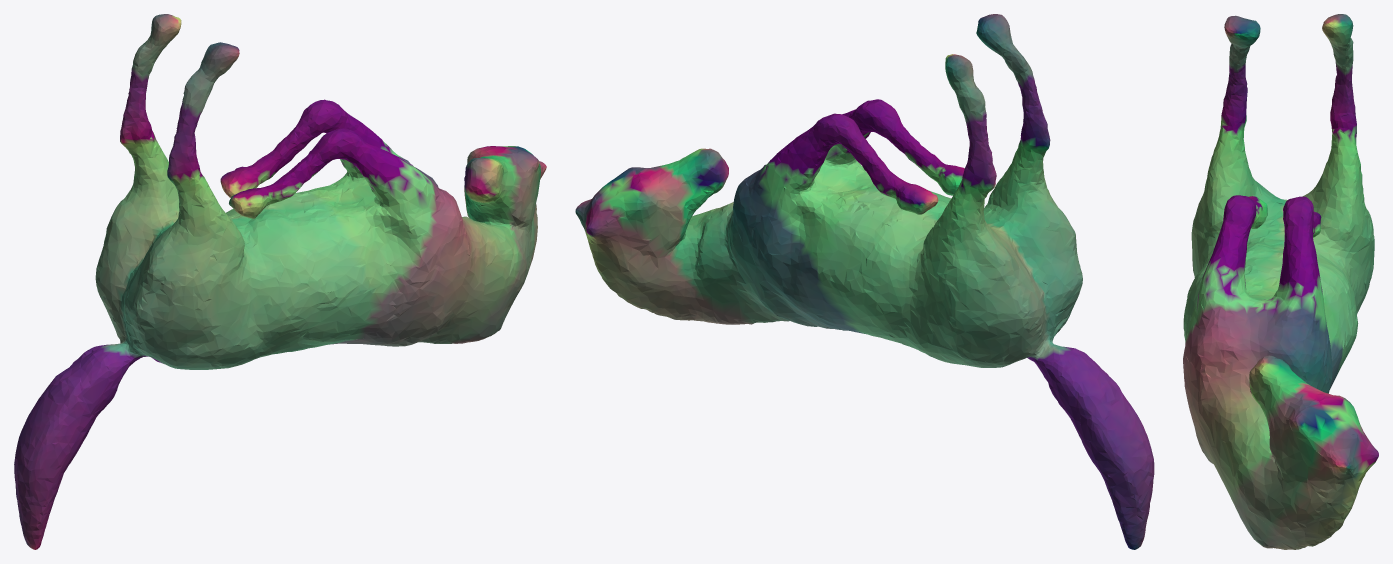
Rendered from horse-4.off.obj.
The picture shows the model from 3 angles, left to right: view 1: azimuth 30°, elevation 25°; view 2: azimuth 150°, elevation 25°; view 3: azimuth 270°, elevation 25°; orthographic projection. The views are drawn at different scales.
Size of the model in its own units: 1.46 by 1.21 by 0.4267.
